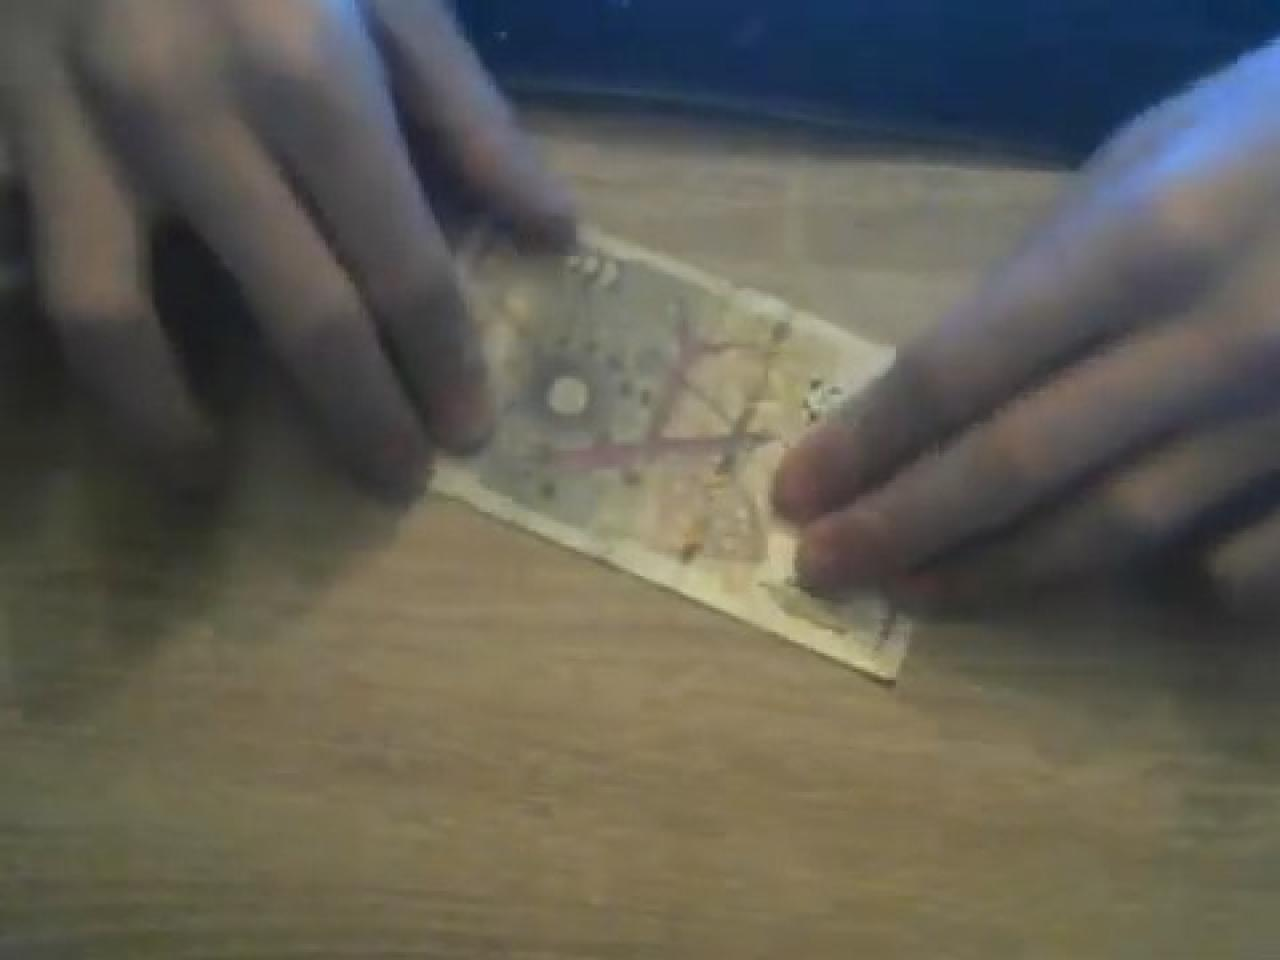10leva: (432, 232, 907, 686)
